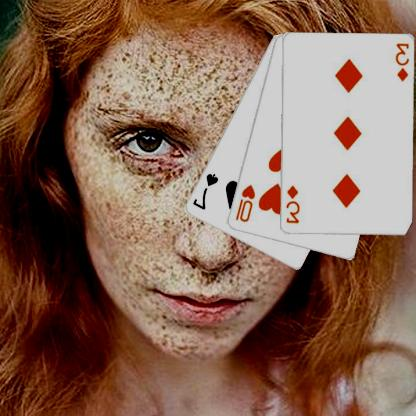10H: (234, 182, 258, 224)
3D: (394, 41, 412, 83), (285, 183, 302, 225)
7S: (192, 171, 222, 211)
